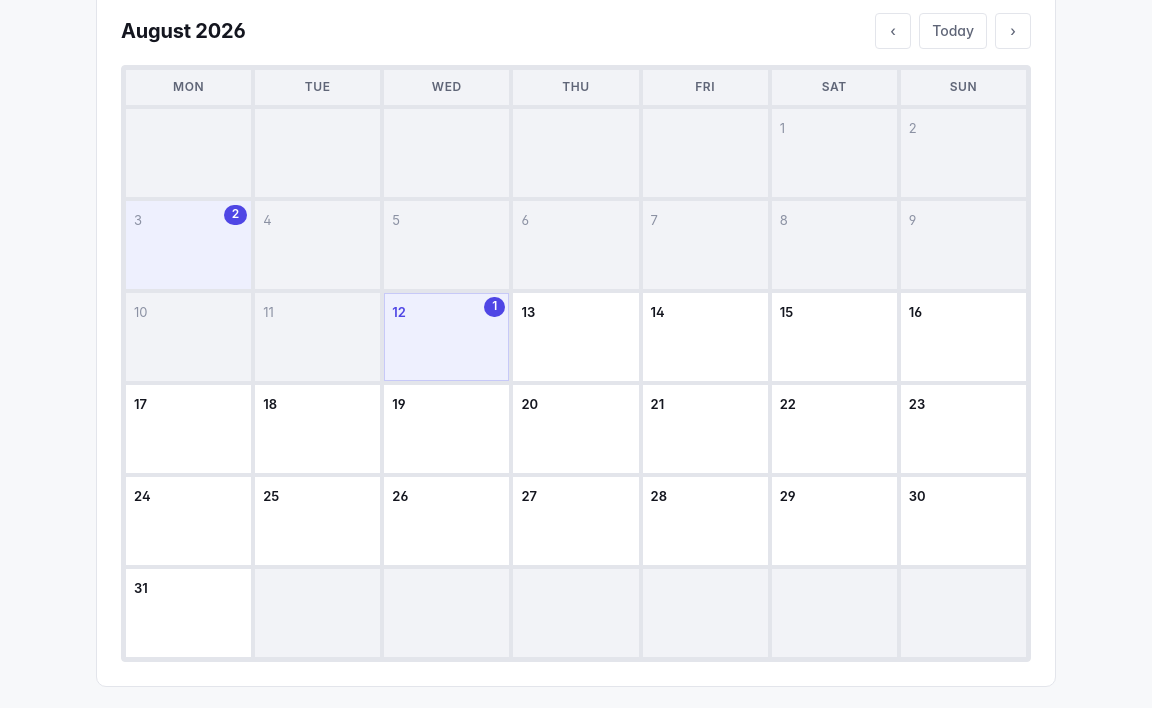
Scenario: Calendar page › says nothing about the day while its notes are on the way
Click the element with class "today".
click(447, 337)  # box [384, 293, 509, 381]
(page scrolled)
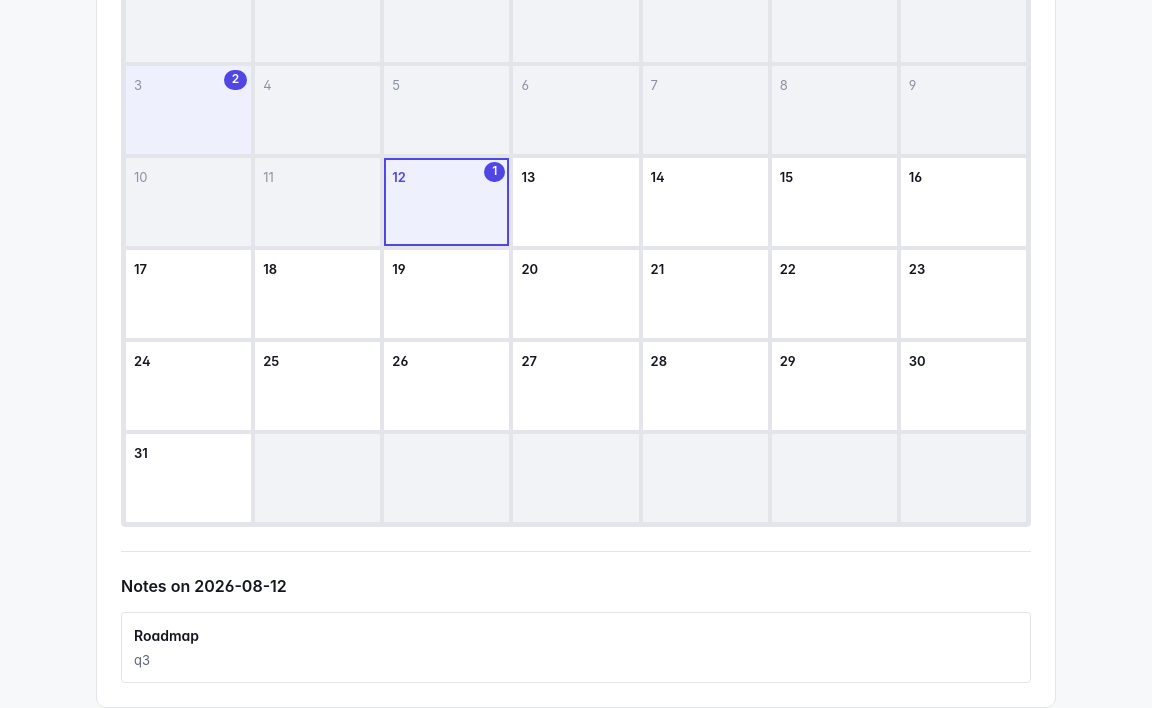
Expected: the text "Roadmap" is shown, [134, 627, 199, 644]
